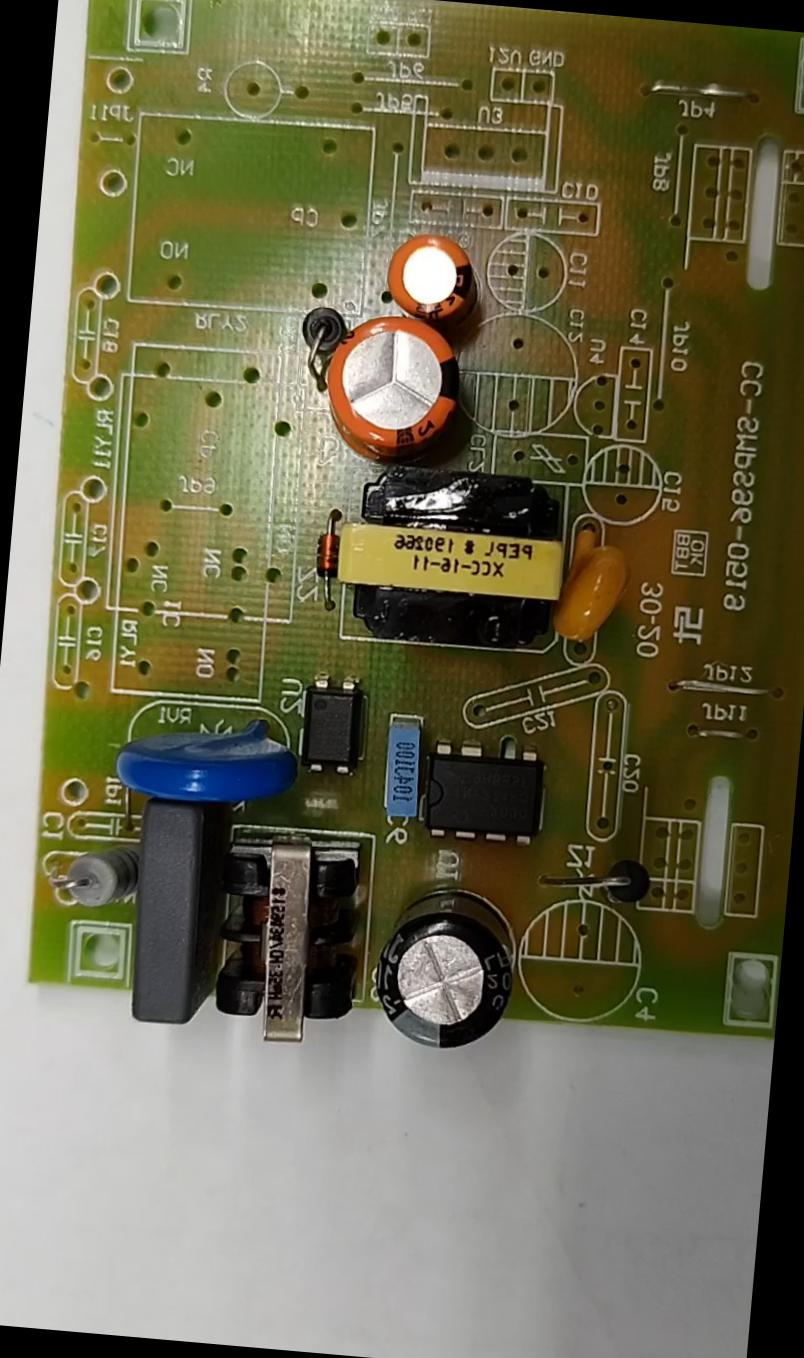Cap1: (323, 308, 467, 458)
Cap2: (382, 230, 472, 322)
Cap3: (369, 878, 518, 1062)
MOSFET: (426, 740, 552, 844)
Mov: (112, 720, 294, 814)
Resistor: (55, 842, 139, 911)
Transformer: (331, 460, 567, 655), (212, 840, 356, 1048)
